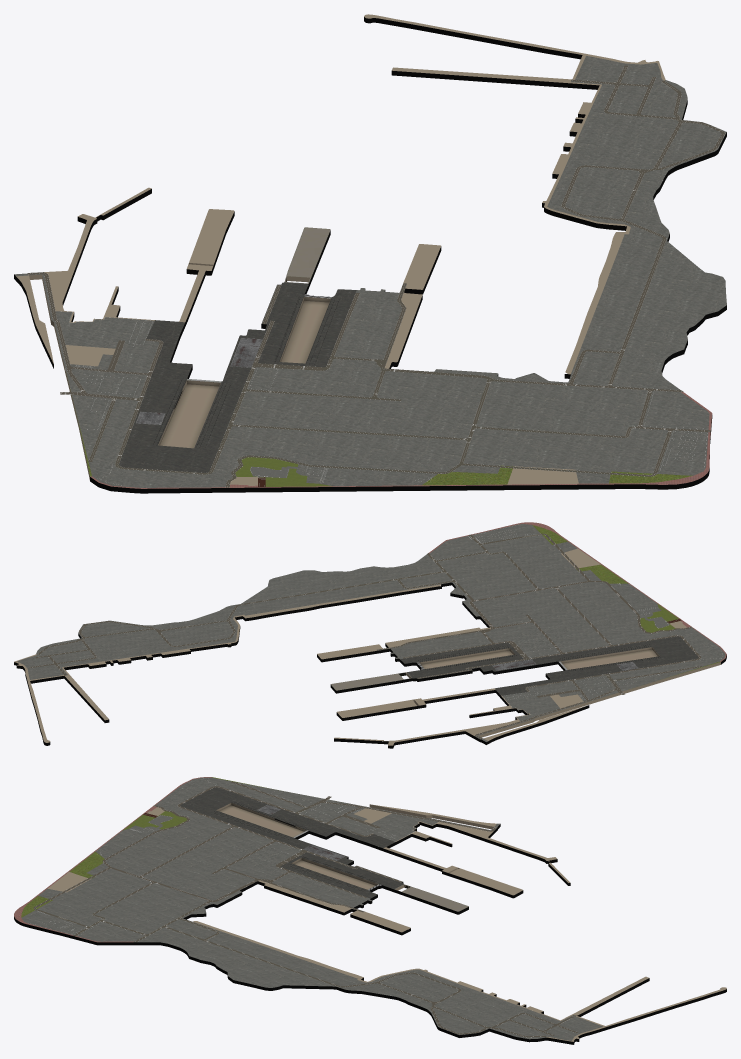
File: Okpo_Yard.glb
3 views of the same model, one above another, from view 1: azimuth 30°, elevation 25°; view 2: azimuth 150°, elevation 25°; view 3: azimuth 270°, elevation 25° (orthographic). The views are drawn at different scales.
Visible parts, largest first — view 1: Okpo Yard; view 2: Okpo Yard; view 3: Okpo Yard.
Boxes of the visible parts, bbox=[...] form: Okpo Yard: bbox=[14, 14, 726, 493]; Okpo Yard: bbox=[14, 522, 726, 748]; Okpo Yard: bbox=[14, 777, 726, 1044].
Size of the model in its own units: 3344 by 17.88 by 3805.
Materials: 17 (12 with a texture image).
